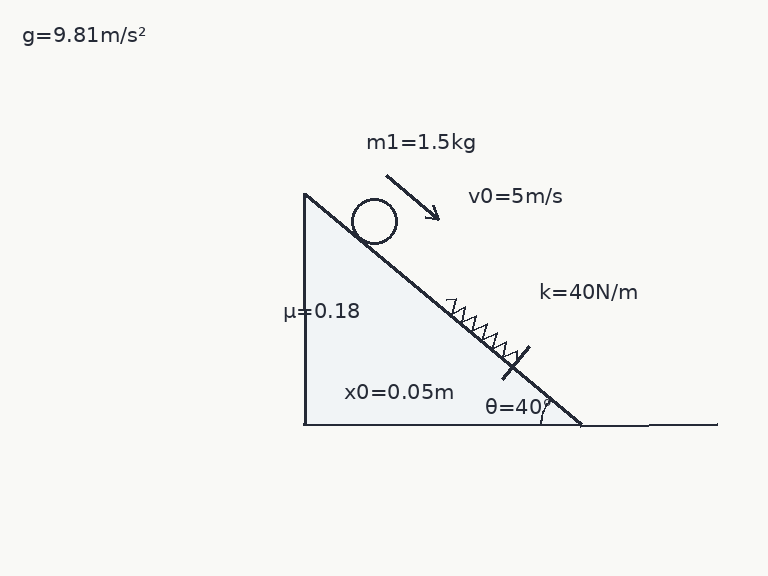ball: (349, 196, 399, 246)
ramp: (302, 191, 583, 427)
spring: (444, 297, 520, 362)
